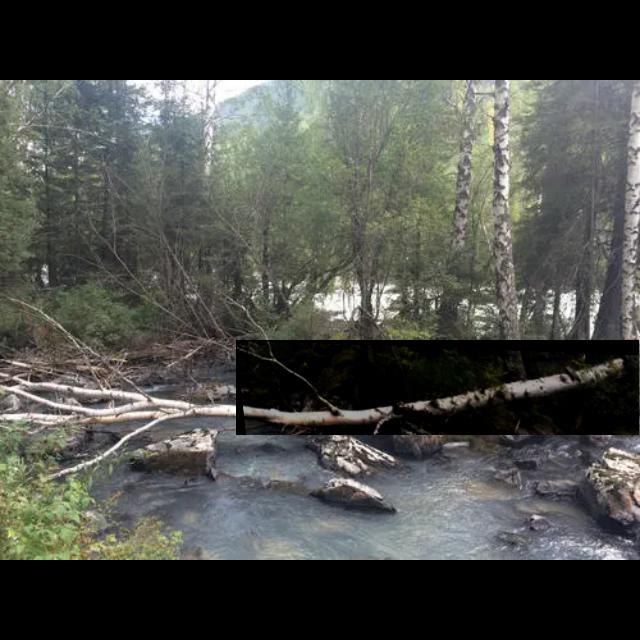Fallen Tree: (236, 340, 640, 436)
